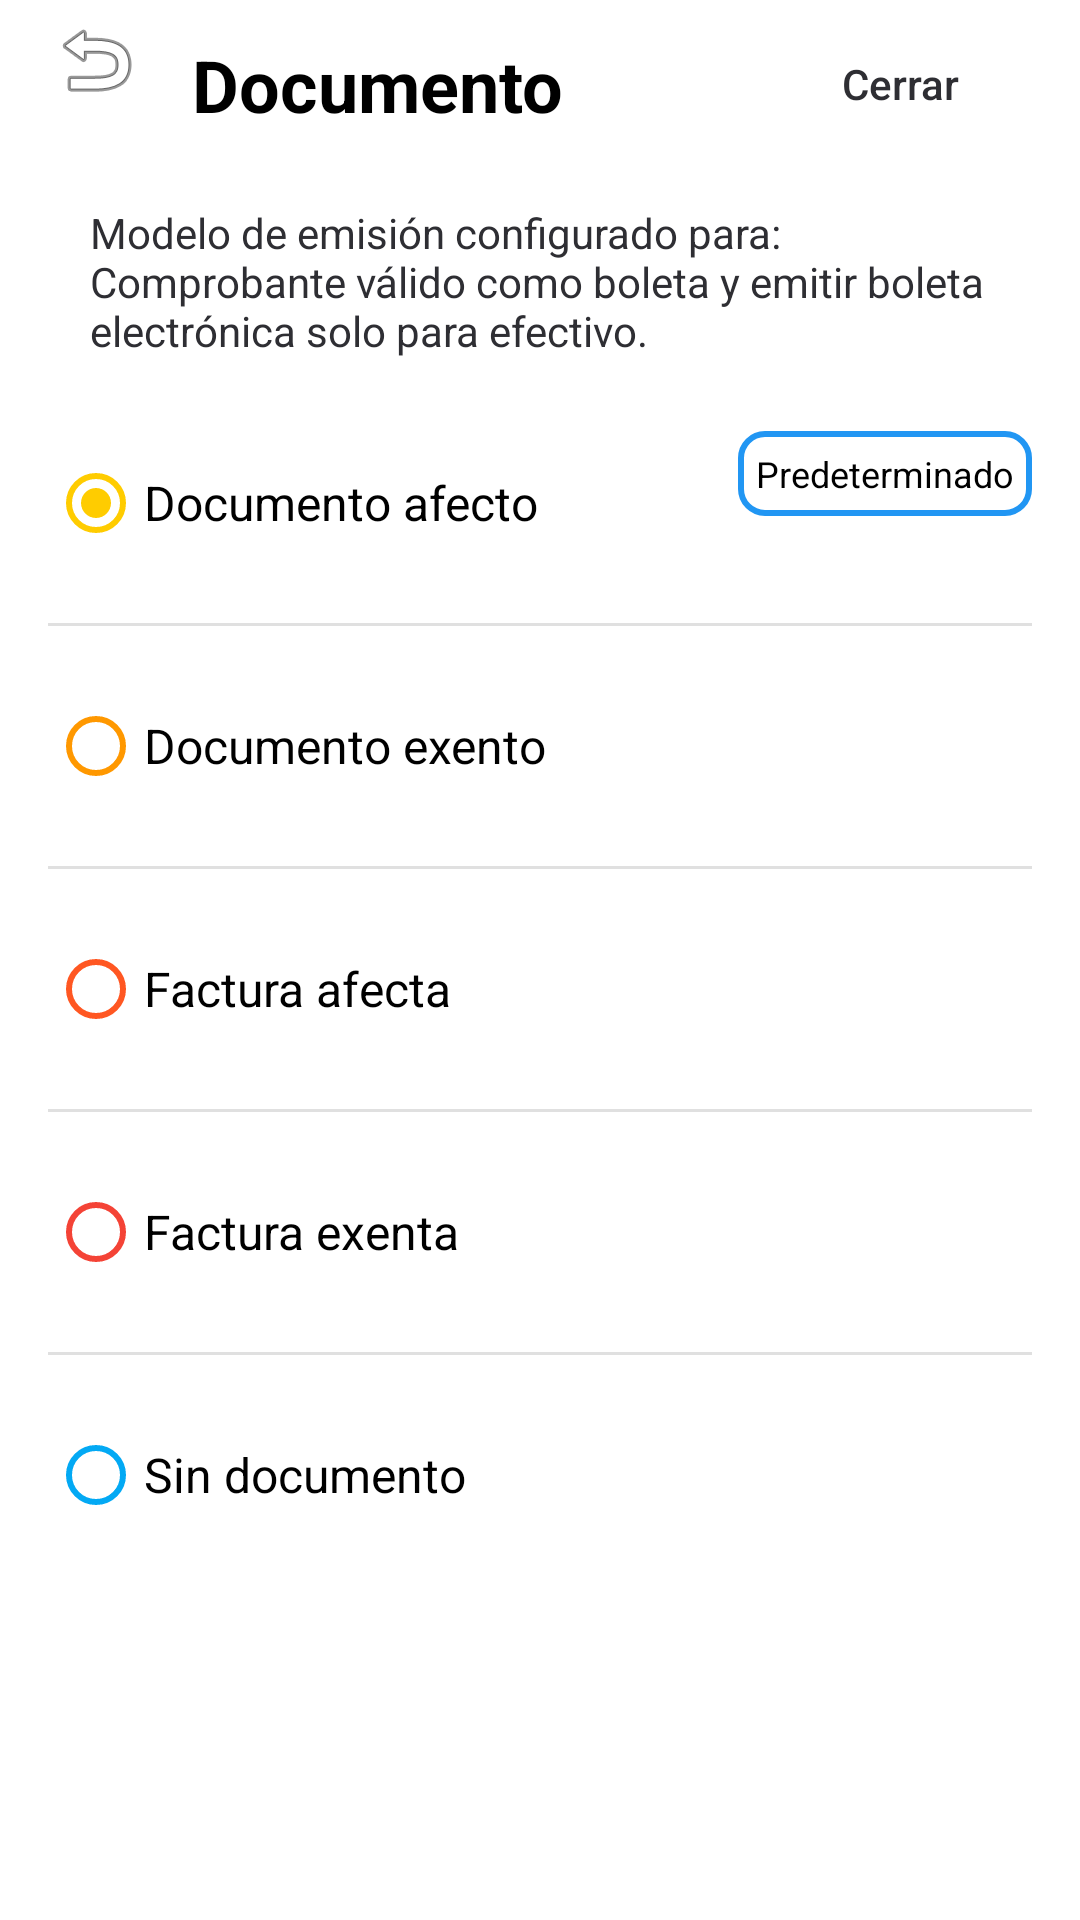

Point at icon controls on the screen. Image size 1080px x 1920px, points as (x,y).
Atrás: (97,60)
